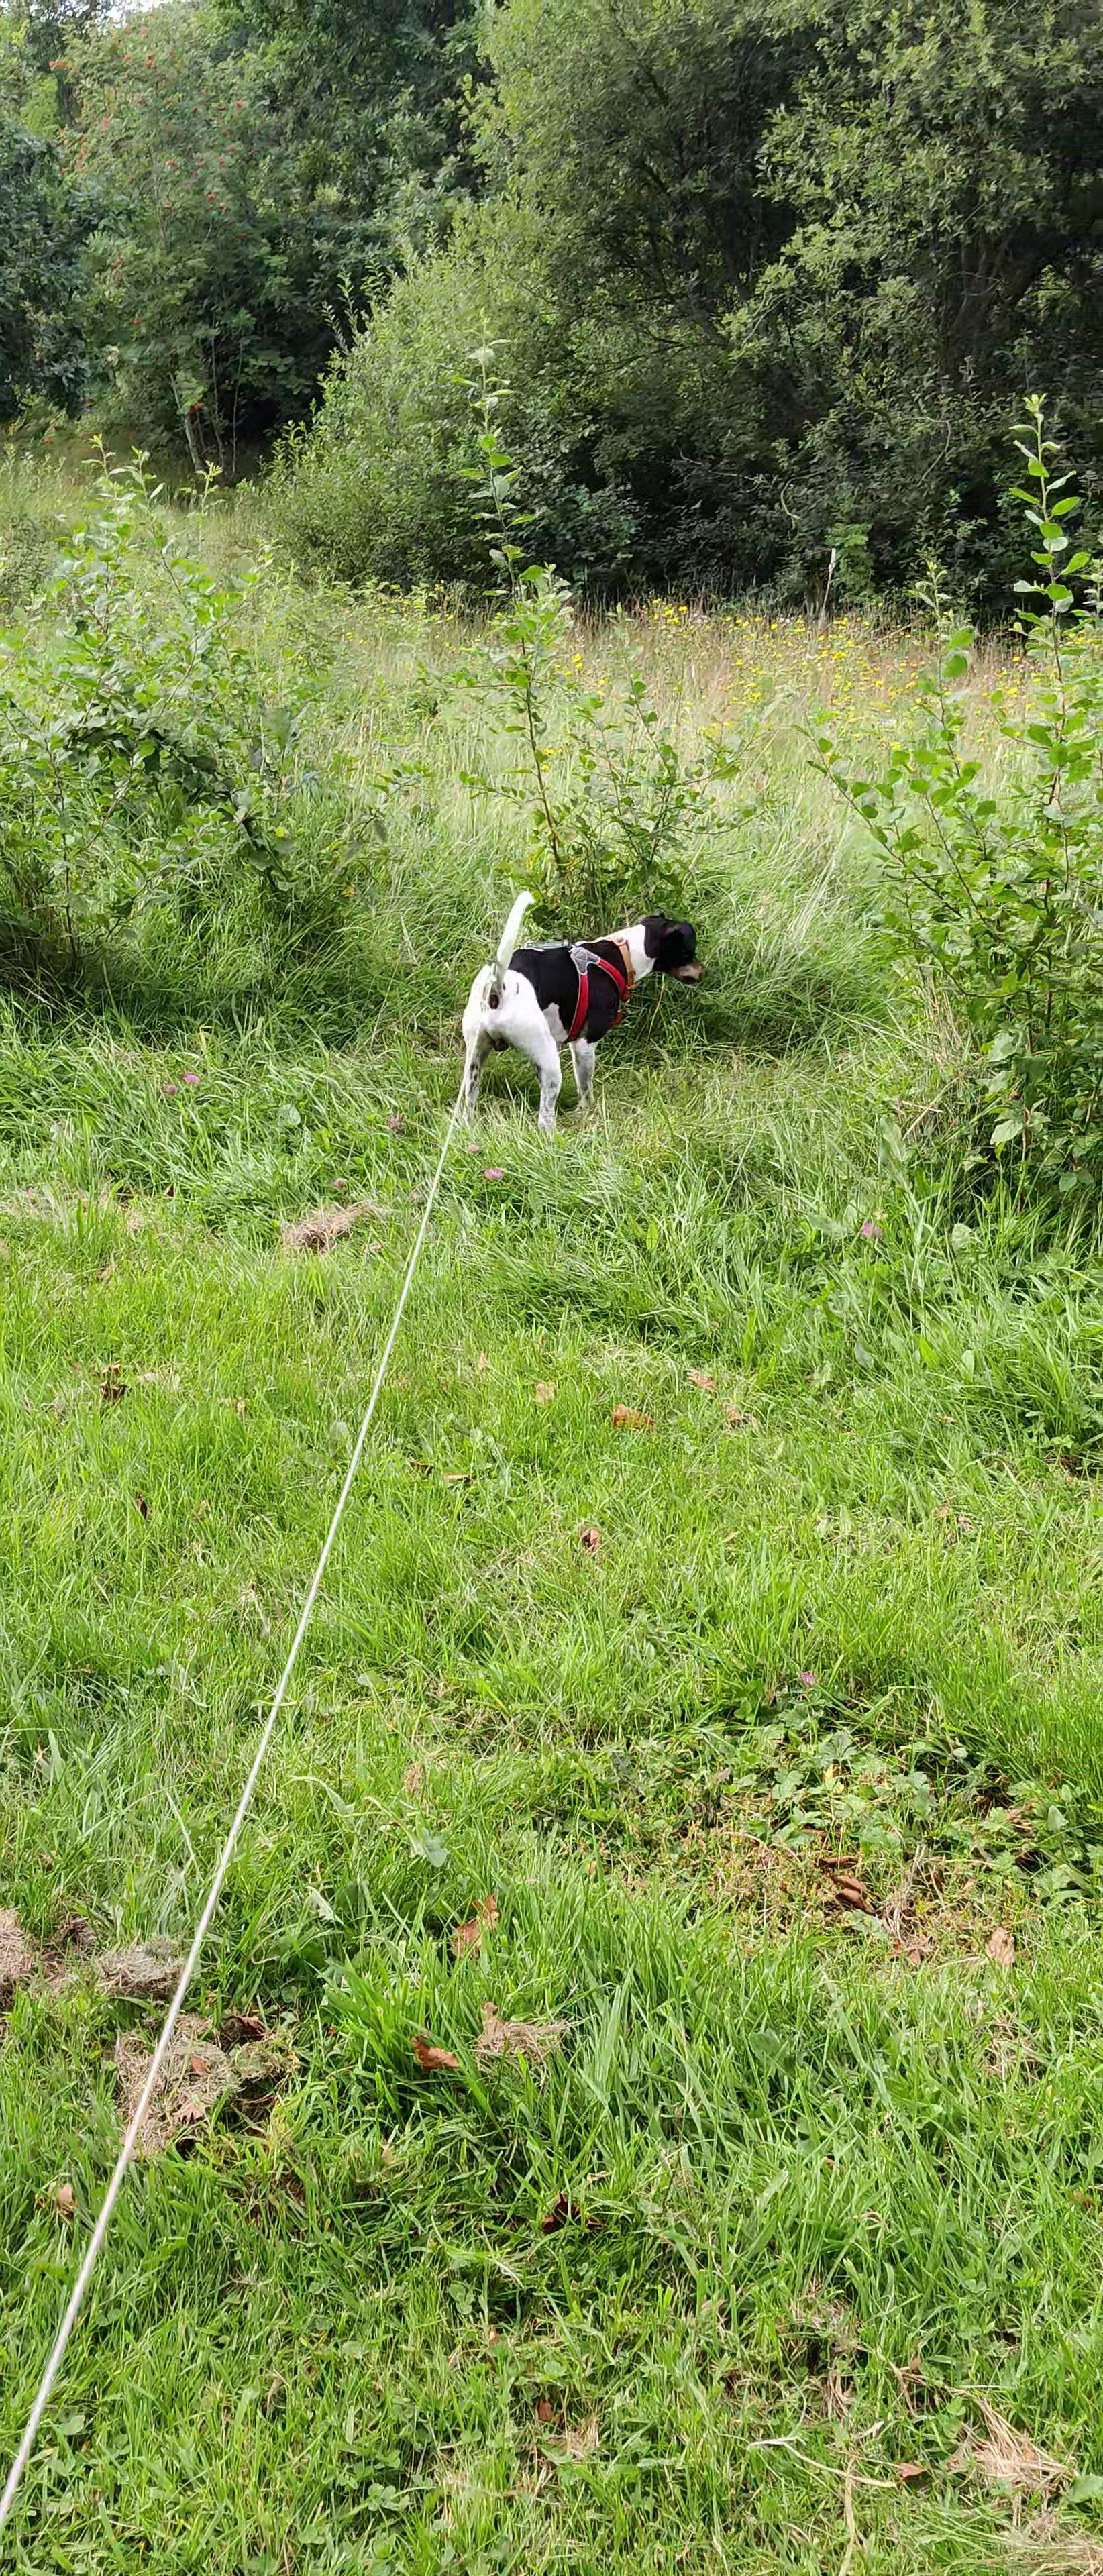Dog: (442, 882, 713, 1132)
